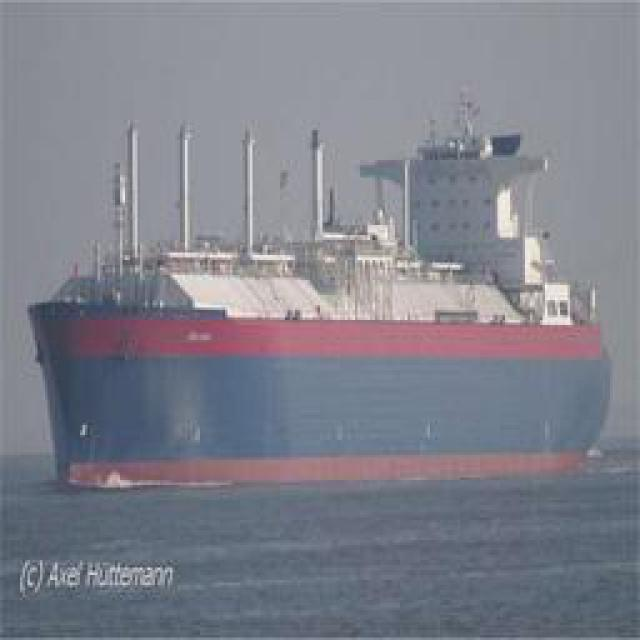Ship: (49, 188, 609, 486)
